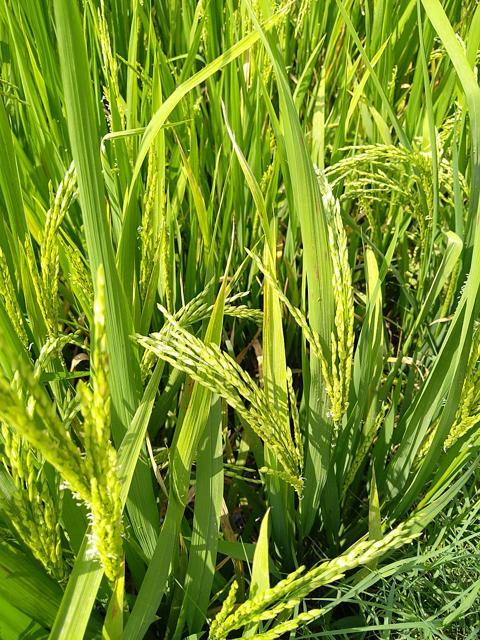Panicle Blight: (94, 351, 110, 401)
